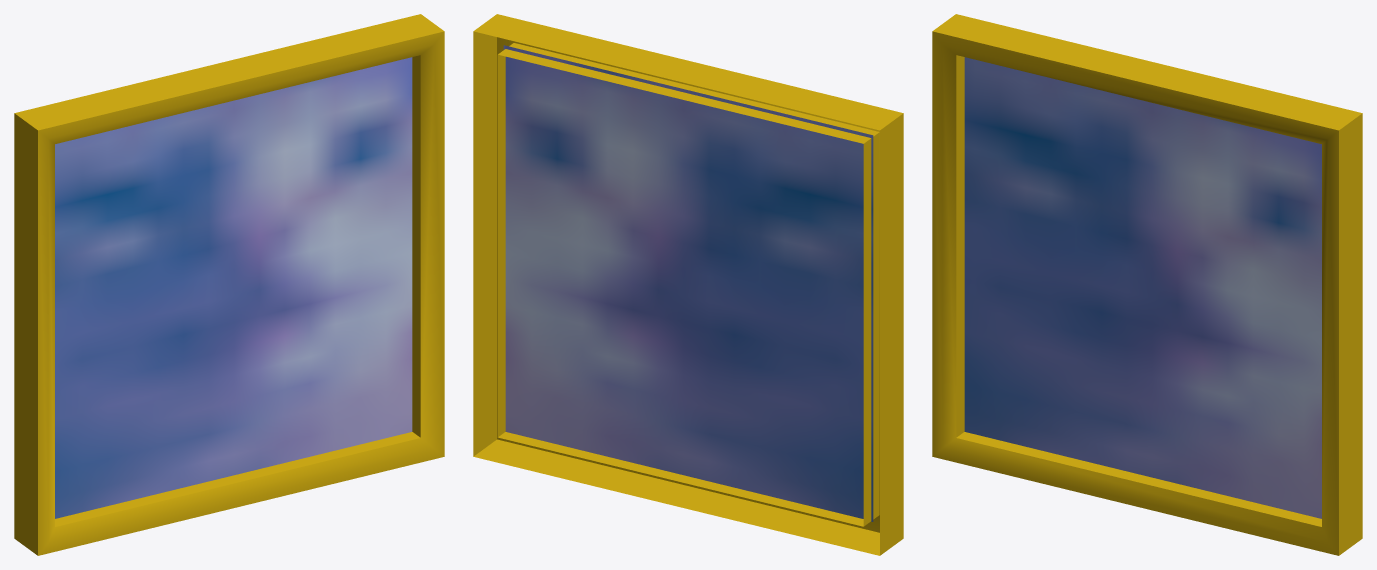
File: SM_Photo_4.fbx
3 views of the same model, side by side, from view 1: azimuth 30°, elevation 25°; view 2: azimuth 150°, elevation 25°; view 3: azimuth 330°, elevation 25° (orthographic).
Visible parts, largest first — view 1: Canvas, Frame, Canvas1; view 2: Canvas, Frame, Canvas1; view 3: Canvas, Canvas1, Frame.
Boxes of the visible parts, <box> form: Canvas: <box>55,57,412,518</box>; Frame: <box>14,14,444,555</box>; Canvas1: <box>55,59,412,518</box>; Canvas: <box>503,45,873,521</box>; Frame: <box>473,14,903,555</box>; Canvas1: <box>503,46,873,519</box>; Canvas: <box>964,57,1321,518</box>; Canvas1: <box>964,58,1321,518</box>; Frame: <box>932,14,1362,555</box>.
Bounding box in the file's own units: 1.23 × 1.23 × 0.1243.
